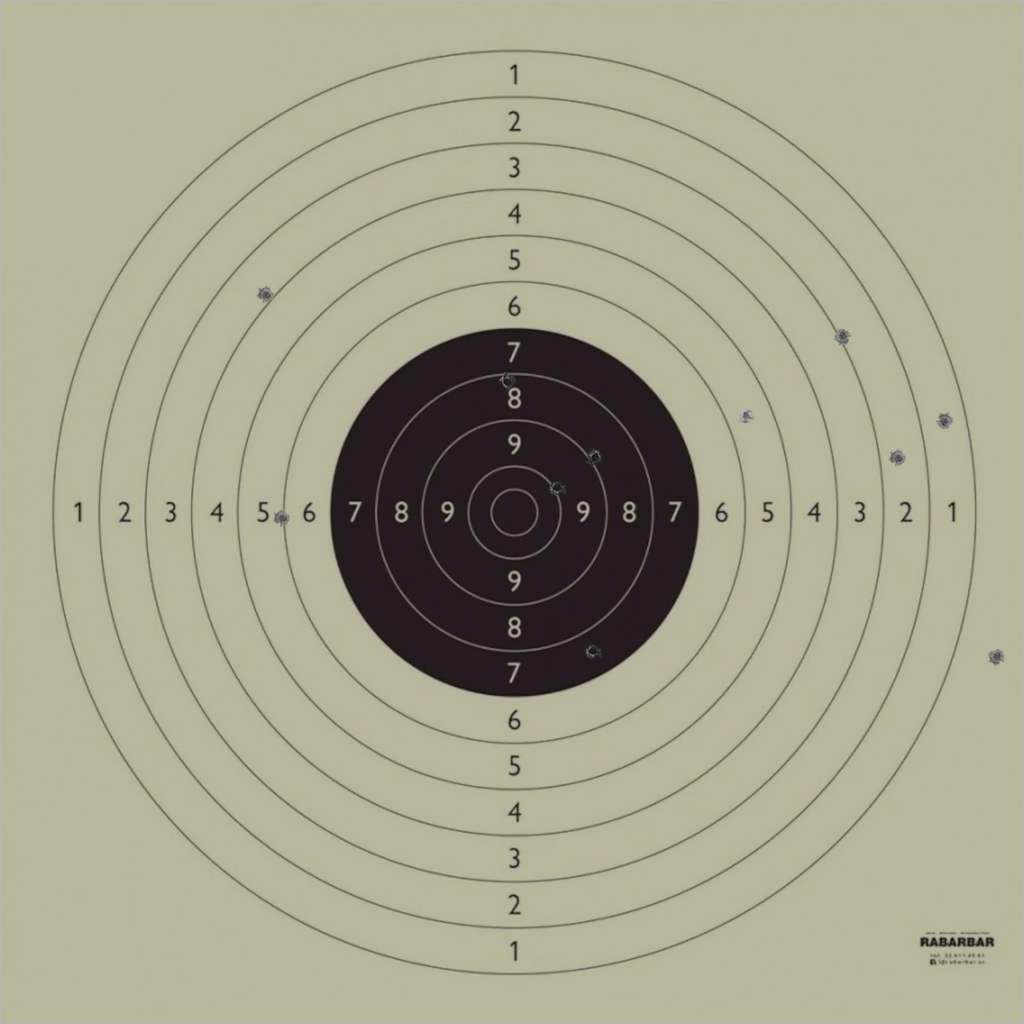0 punktow: (988, 647, 1006, 666)
1 punkt: (935, 412, 954, 431)
10 punktow: (548, 479, 566, 497)
2 punkty: (889, 449, 907, 467)
3 punkty: (833, 327, 852, 345)
4 punkty: (257, 286, 275, 304)
5 punktow: (737, 406, 755, 425)
6 punktow: (273, 509, 292, 527)
7 punktow: (584, 642, 602, 661)
8 punktow: (498, 373, 516, 391)
9 punktow: (585, 448, 604, 467)
